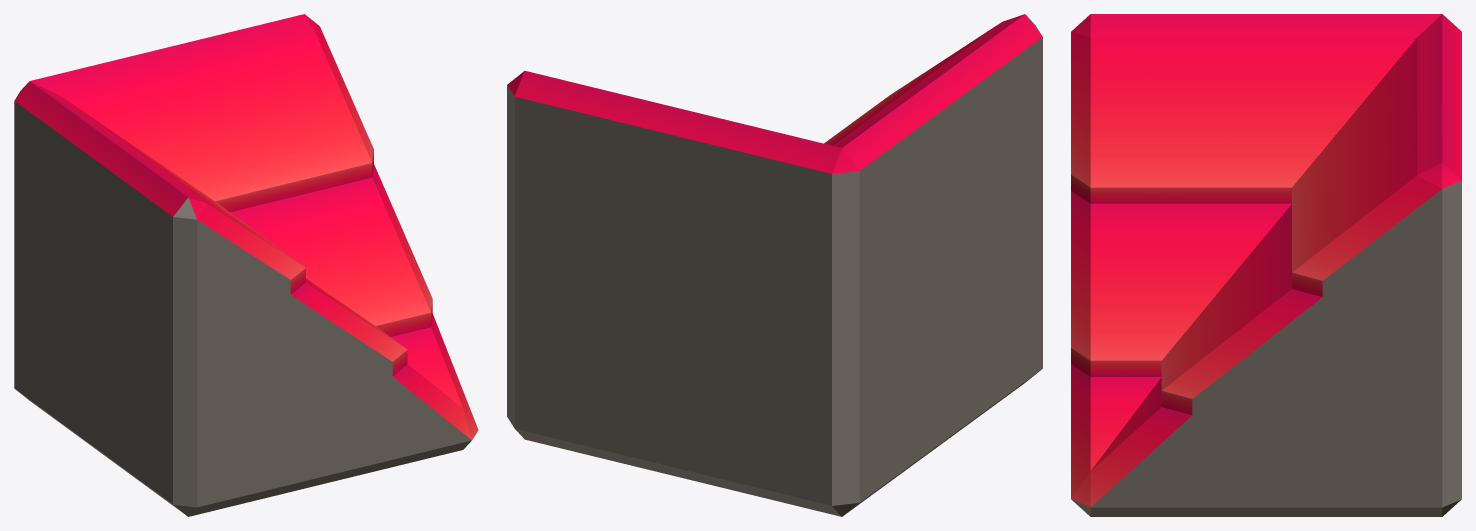
File: m_kub_roofPink_cornerIn.FBX
3 views of the same model, side by side, from view 1: azimuth 30°, elevation 25°; view 2: azimuth 150°, elevation 25°; view 3: azimuth 270°, elevation 25° (orthographic). The views are drawn at different scales.
Visible parts, largest first — view 1: m_kub_roofPink_cornerIn; view 2: m_kub_roofPink_cornerIn; view 3: m_kub_roofPink_cornerIn.
Part boxes in pixels (x1=…): m_kub_roofPink_cornerIn: x1=14, y1=14, x2=478, y2=516; m_kub_roofPink_cornerIn: x1=507, y1=14, x2=1042, y2=516; m_kub_roofPink_cornerIn: x1=1071, y1=14, x2=1461, y2=516.
Bounding box in the file's own units: 2 × 2 × 2.
